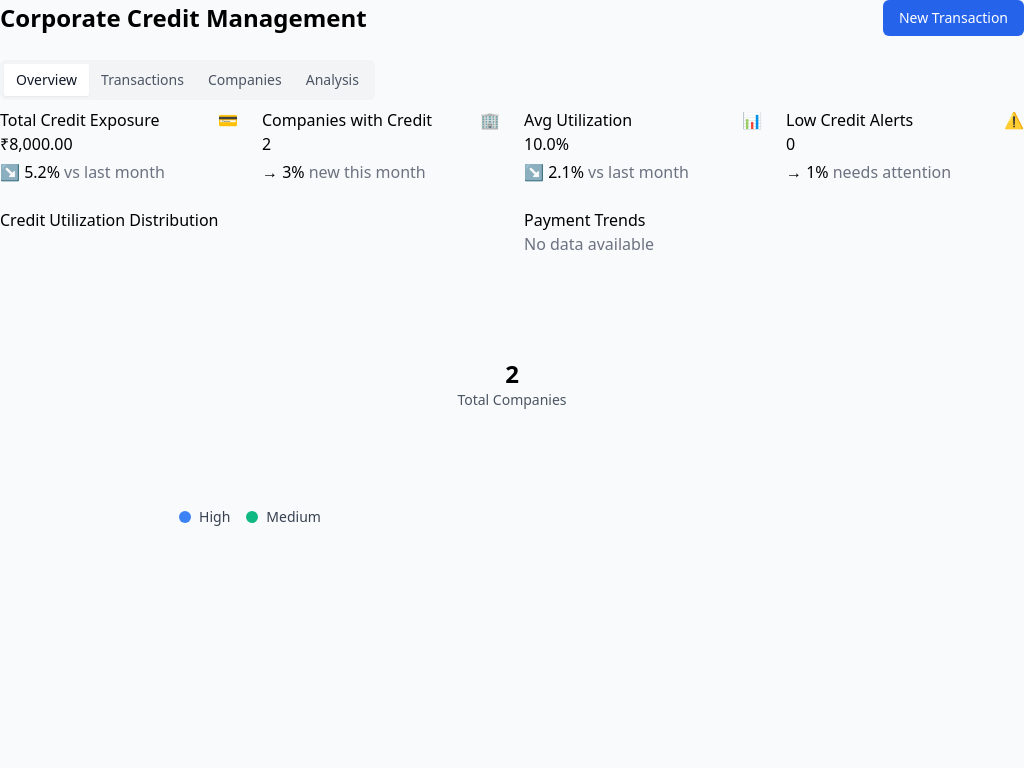
CorporateCreditManagement › displays New Transaction button and handles click
Click the button "New Transaction".
click(953, 18)  # box [883,0,1023,36]
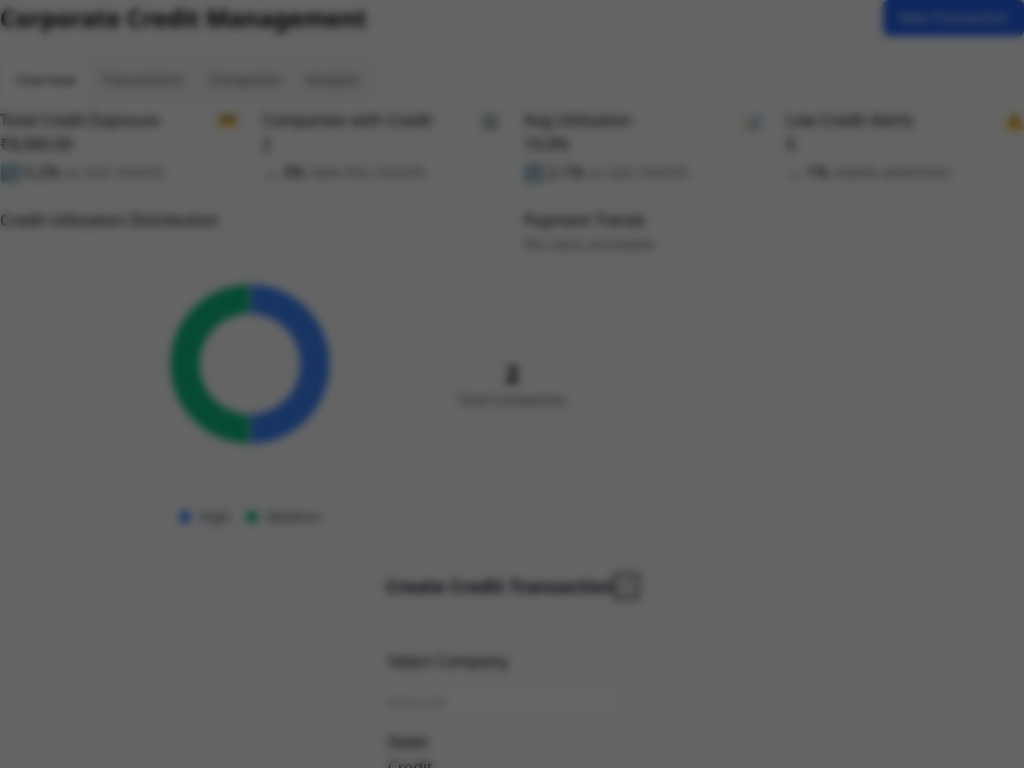
Now the heading "Create Credit Transaction" is shown, box [386,572,614,600]
